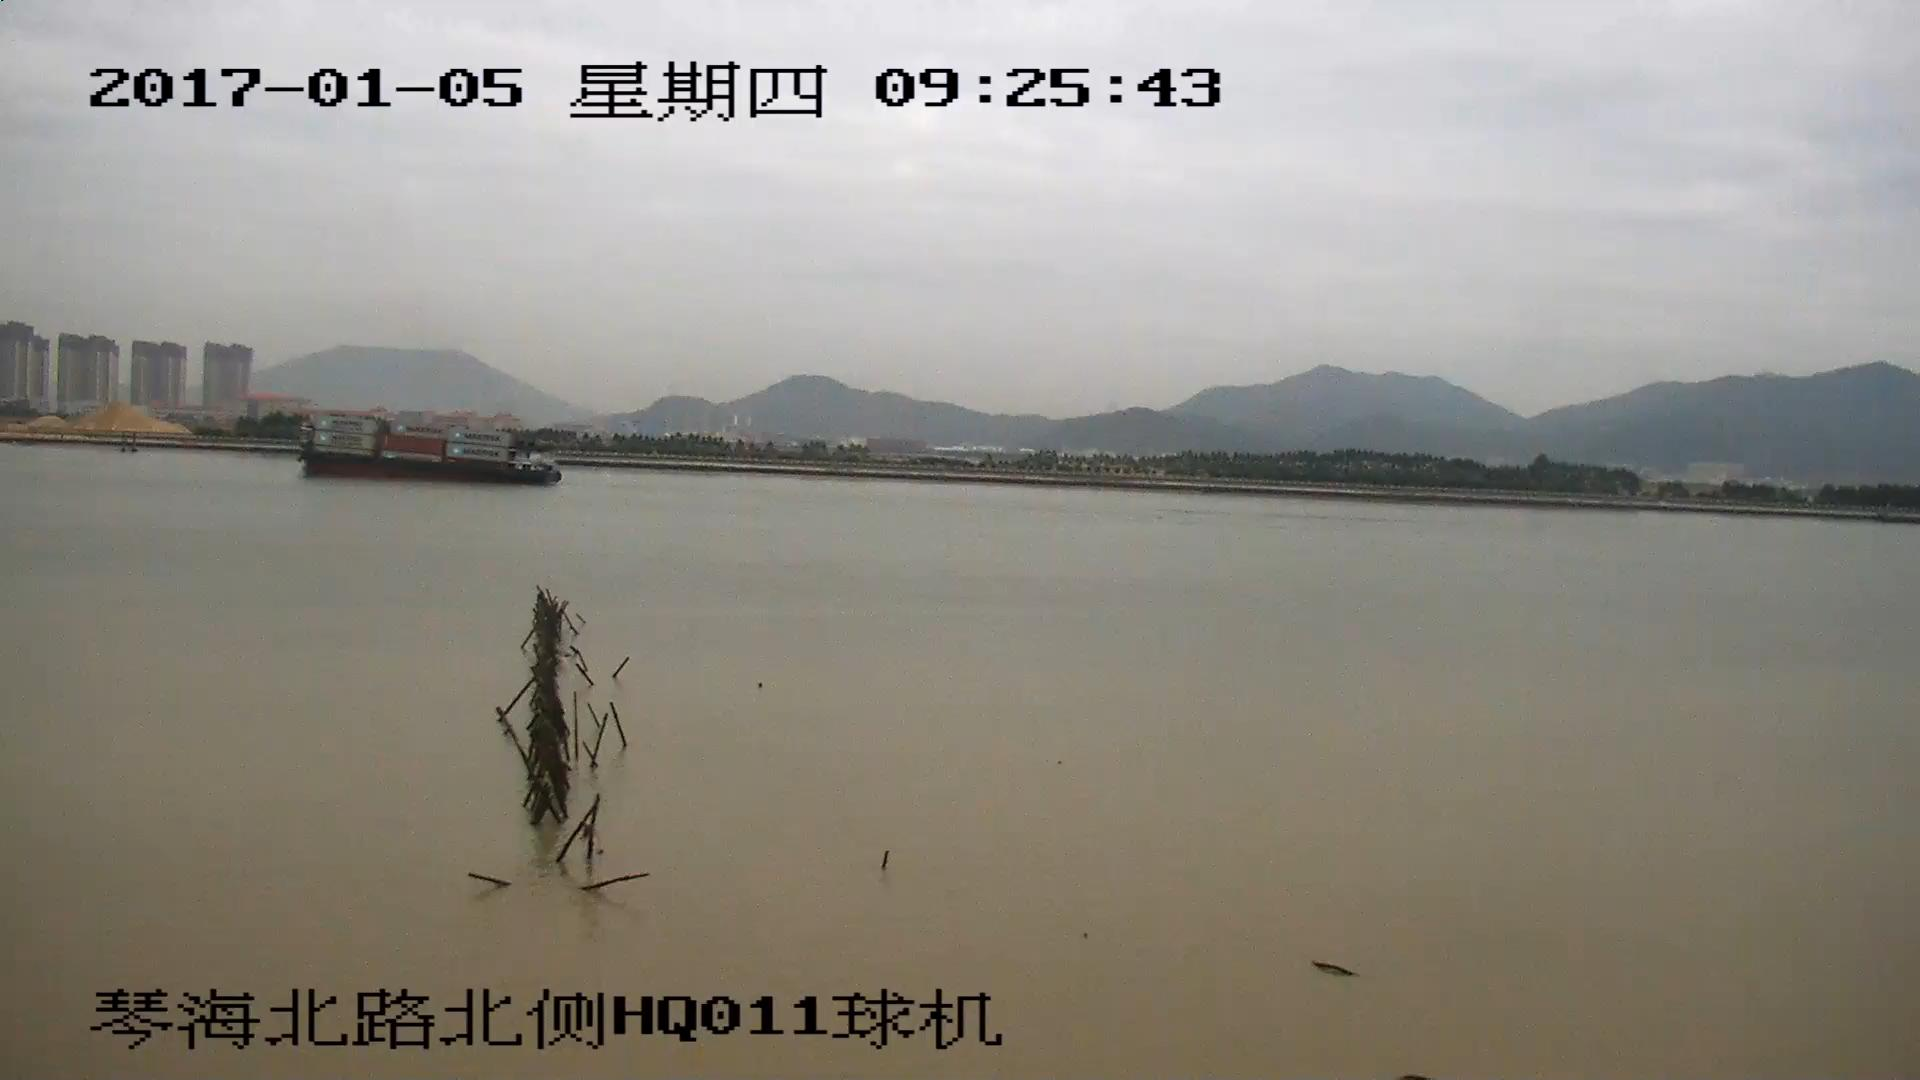container ship: (296, 418, 558, 487)
